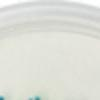Blue_green: (34, 94, 42, 100), (0, 92, 5, 100), (27, 96, 34, 100)
